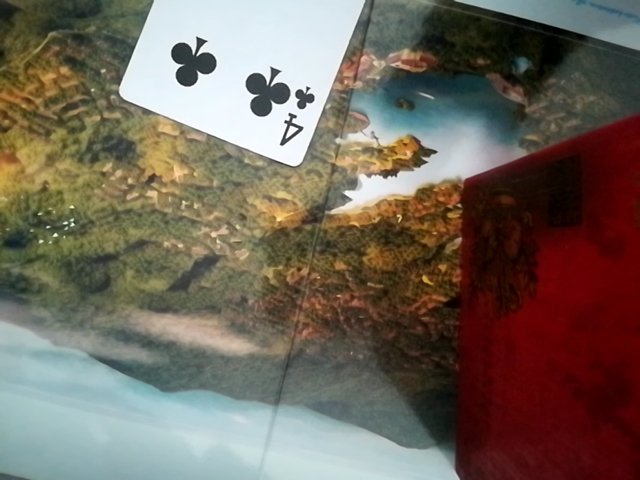mh 4: (120, 2, 397, 164)
